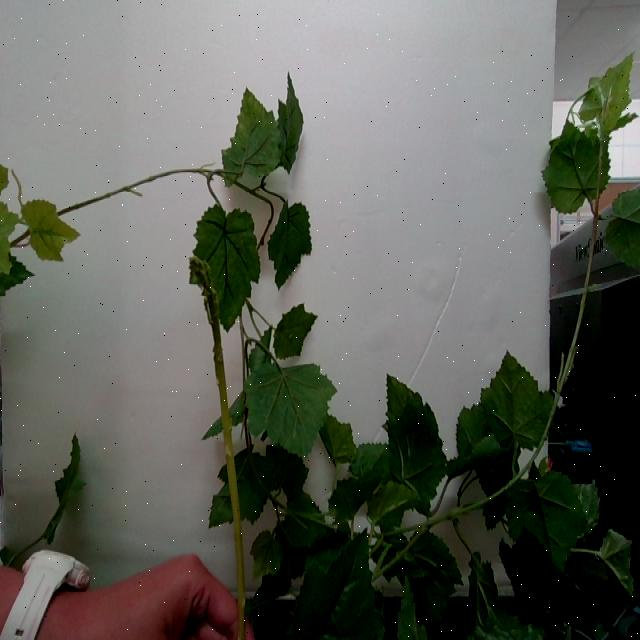aspargus: (191, 257, 247, 640)
